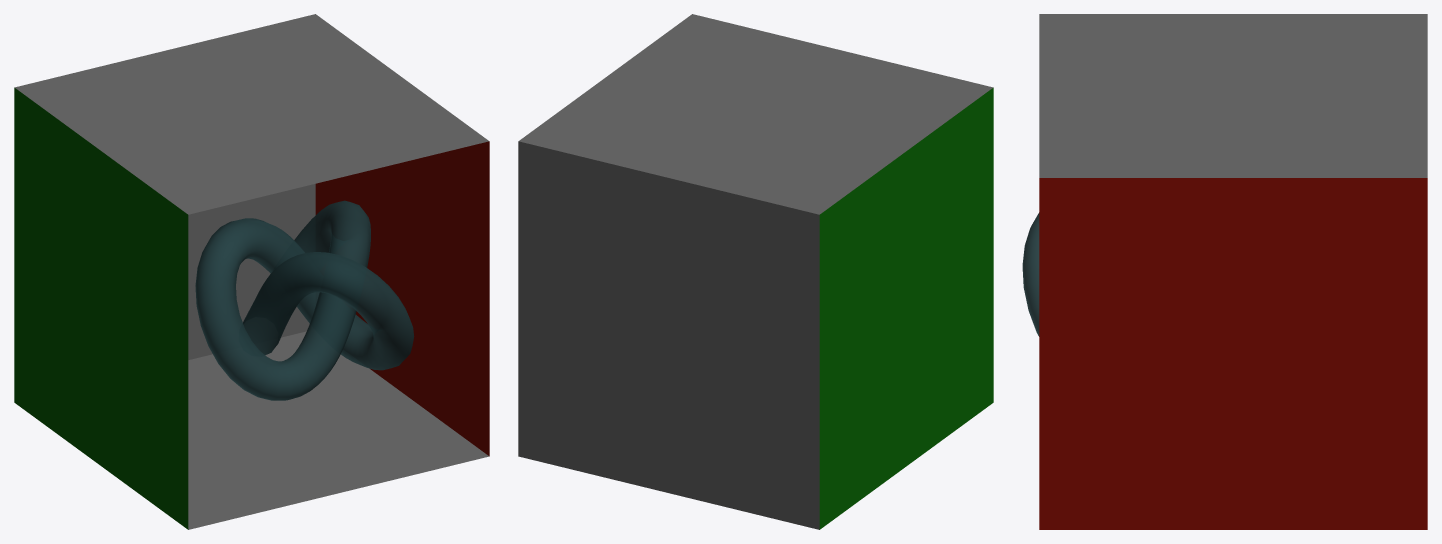
The model's file is knot_cornell.dae.
3 views of the same model, side by side, from view 1: azimuth 30°, elevation 25°; view 2: azimuth 150°, elevation 25°; view 3: azimuth 270°, elevation 25° (orthographic). The views are drawn at different scales.
Visible parts, largest first — view 1: pPlane2, pPlane5, pPlane1, pPlane6, knot_Torus_Knot001, pPlane3; view 2: pPlane3, pPlane2, pPlane5; view 3: pPlane6, pPlane5, knot_Torus_Knot001.
Boxes of the visible parts, x1=… form: pPlane2: x1=14, y1=87, x2=188, y2=529; pPlane5: x1=14, y1=14, x2=488, y2=214; pPlane1: x1=188, y1=331, x2=489, y2=529; pPlane6: x1=315, y1=141, x2=489, y2=456; knot_Torus_Knot001: x1=195, y1=200, x2=414, y2=400; pPlane3: x1=188, y1=184, x2=315, y2=359; pPlane3: x1=518, y1=141, x2=819, y2=529; pPlane2: x1=819, y1=87, x2=993, y2=529; pPlane5: x1=519, y1=14, x2=993, y2=214; pPlane6: x1=1039, y1=178, x2=1427, y2=529; pPlane5: x1=1039, y1=14, x2=1427, y2=177; knot_Torus_Knot001: x1=1022, y1=212, x2=1039, y2=336.
Size of the model in its own units: 500 by 500 by 522.
